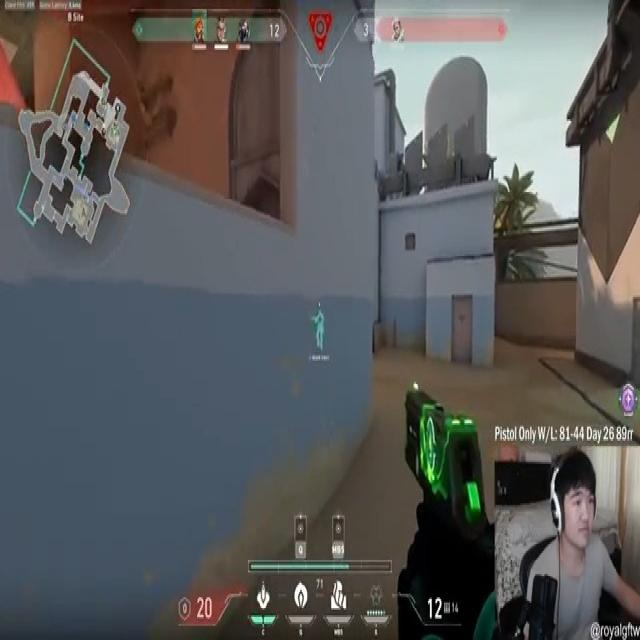ally behind wall: (310, 306, 330, 358)
